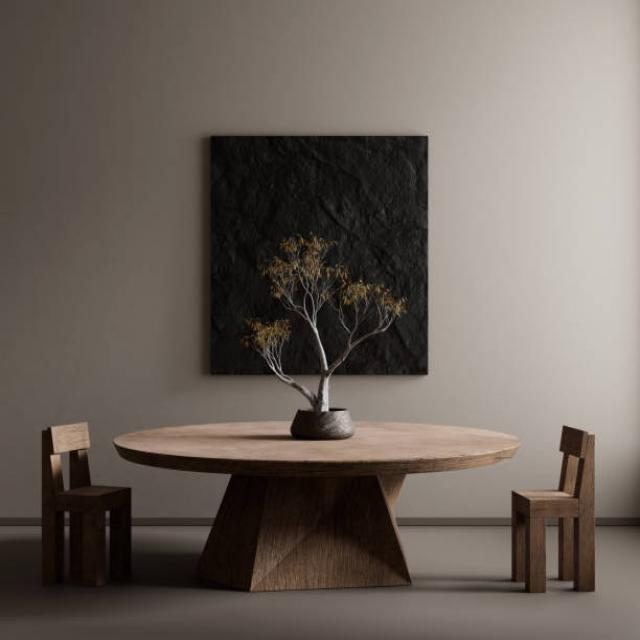table: (112, 416, 520, 592)
